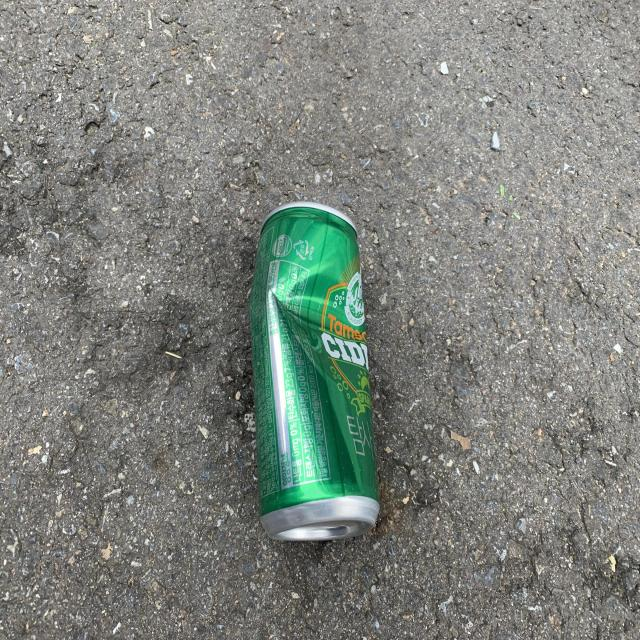can: (250, 201, 380, 541)
